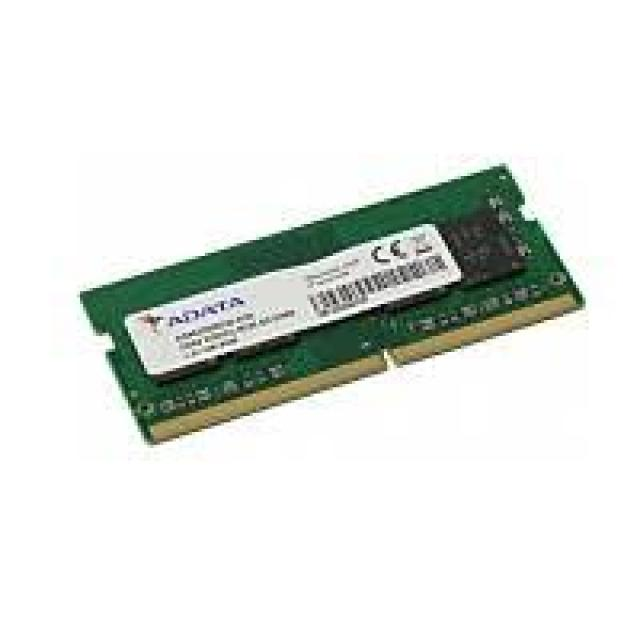Ram: (57, 153, 550, 456)
